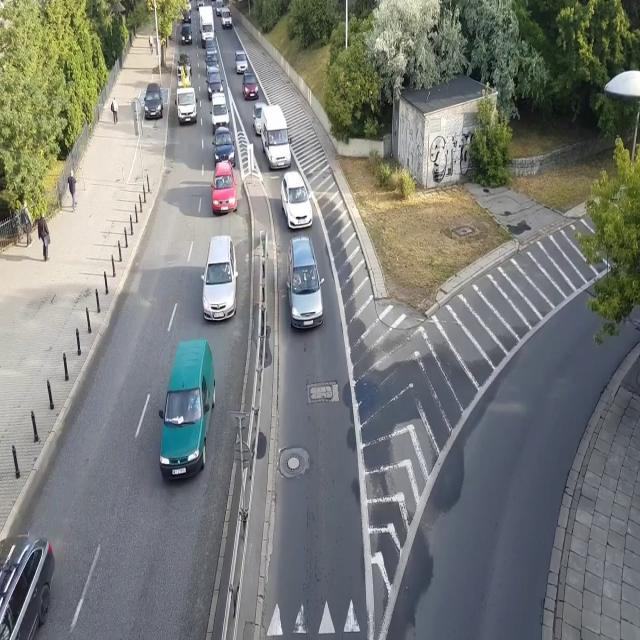car: (0, 534, 57, 640), (284, 237, 325, 330), (201, 235, 239, 325), (280, 170, 313, 230), (209, 160, 238, 213), (211, 126, 236, 170), (144, 83, 164, 119), (205, 68, 224, 100), (252, 102, 268, 136), (241, 71, 259, 100), (177, 53, 193, 75), (234, 50, 248, 74), (204, 52, 220, 72), (180, 24, 192, 46), (205, 37, 218, 54), (182, 10, 191, 25), (215, 0, 224, 15), (196, 0, 205, 9)
truck: (173, 57, 198, 126), (198, 6, 216, 49)
van: (158, 339, 216, 483), (260, 104, 292, 170), (210, 93, 230, 133), (220, 8, 232, 29)
